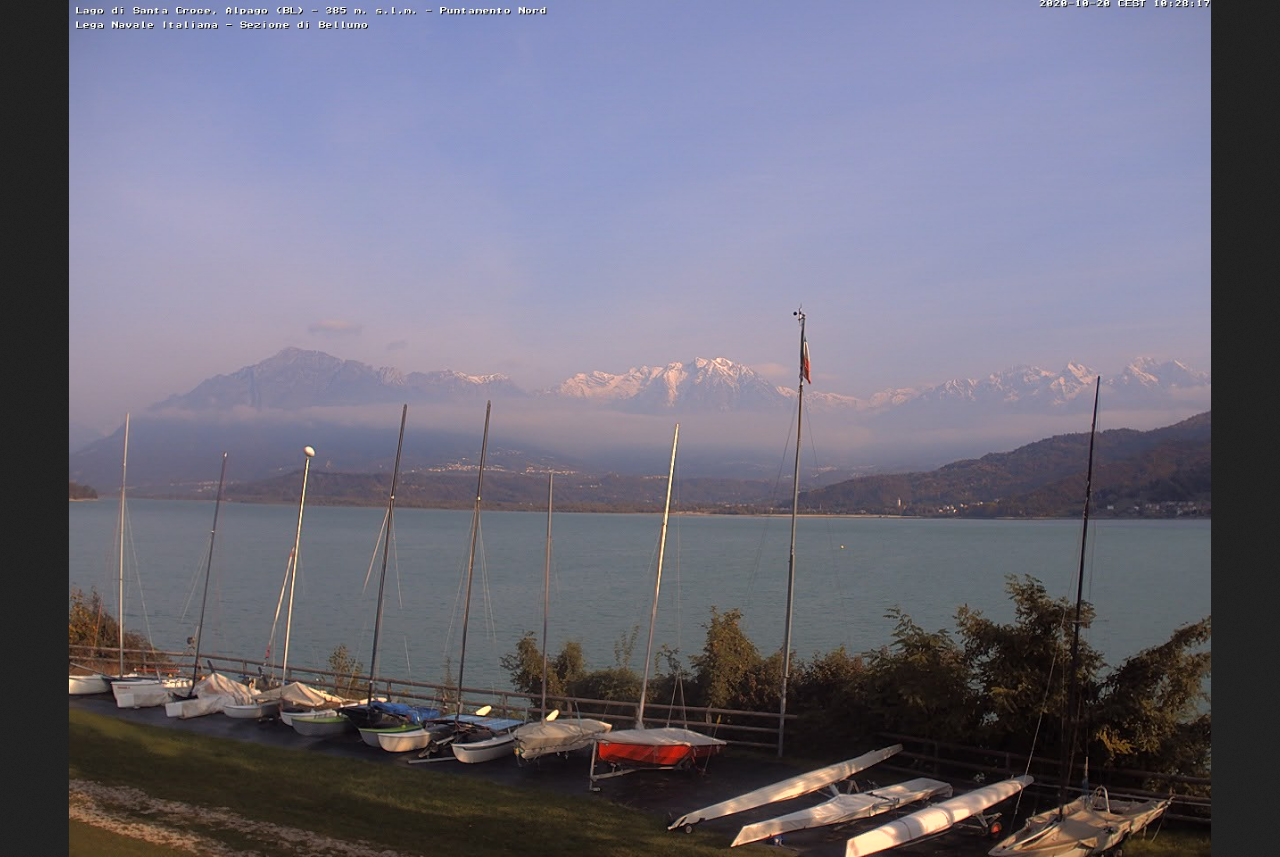no: (785, 303, 819, 393)
